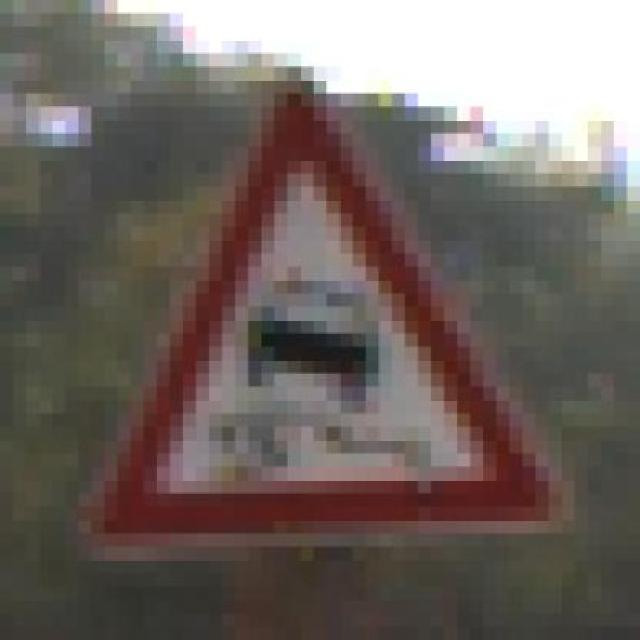Slippery Road Ahead: (78, 53, 588, 561)
